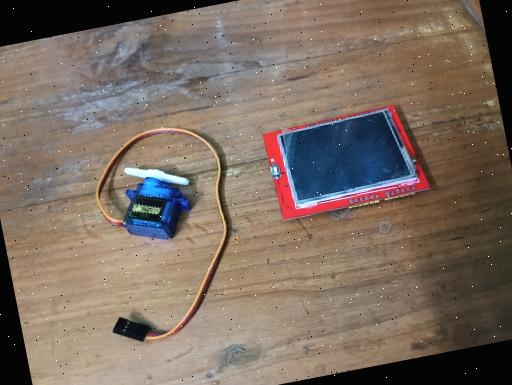Display: (261, 99, 433, 224)
Motor: (113, 156, 200, 248)
